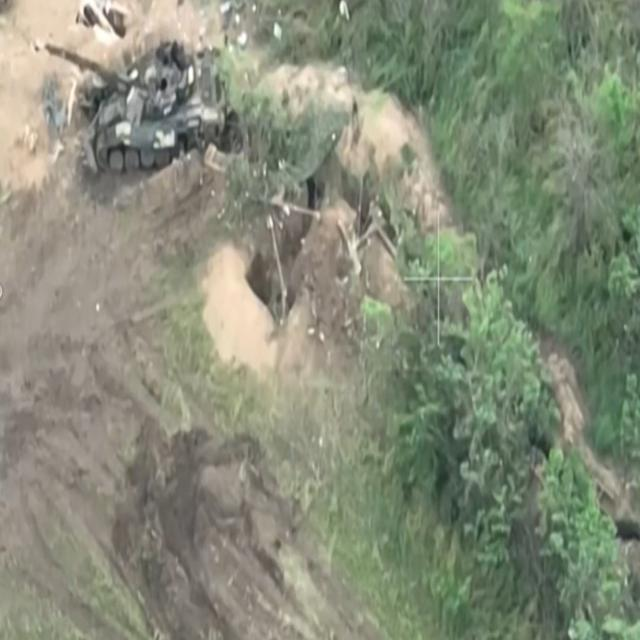MBT: (44, 30, 227, 178)
